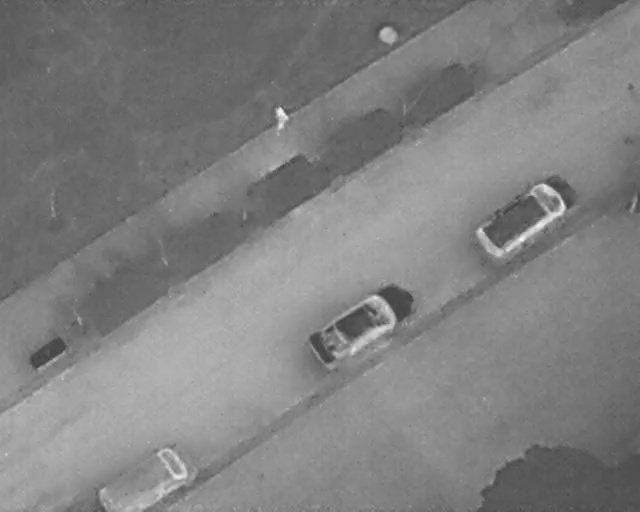Car: (296, 269, 425, 377), (466, 168, 578, 270), (96, 441, 193, 510)
Person: (272, 104, 288, 135)
